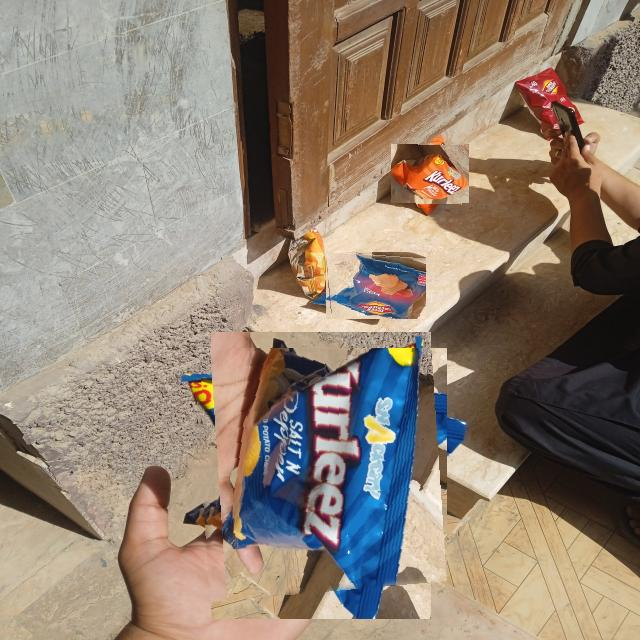Plastic: (193, 348, 448, 602), (325, 251, 426, 319), (395, 139, 464, 208)
